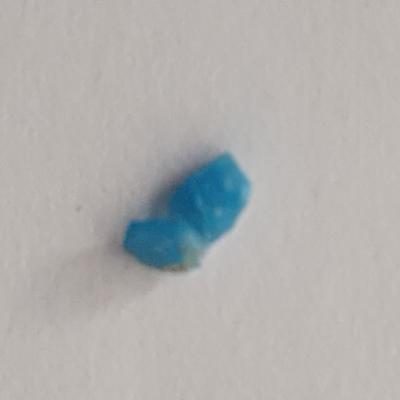plastic: (119, 141, 258, 284)
